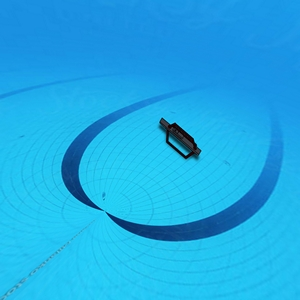submarine: (162, 115, 200, 159)
